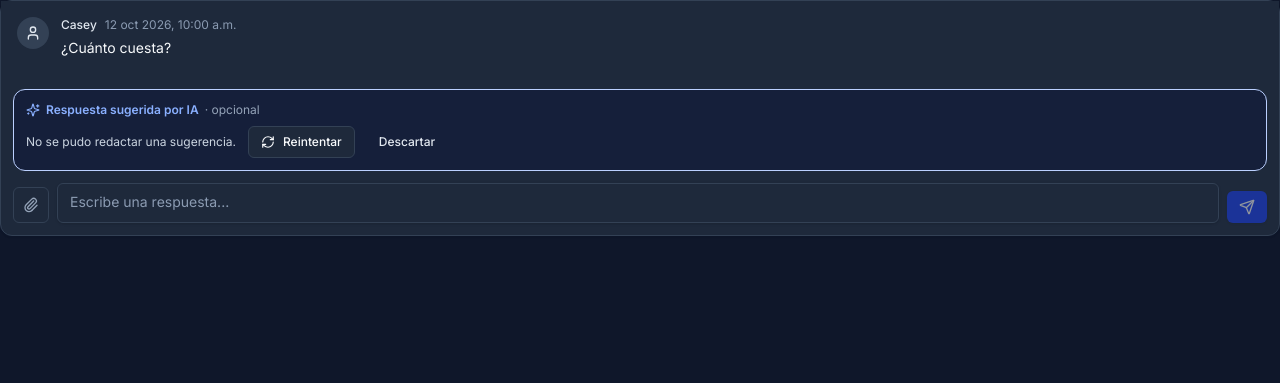
Scenario: borrador de IA en el hilo › si no se pudo redactar ofrece reintentar y el inbox sigue funcionando
The width and height of the screenshot is (1280, 383).
Expected: the text "No se pudo redactar una sugerencia." is shown, [26,134,236,150]
Expected: the text box named "Tu respuesta" is enabled, [57,183,1219,223]
Click the button "Reintentar".
click(301, 142)  # box [248,126,355,158]
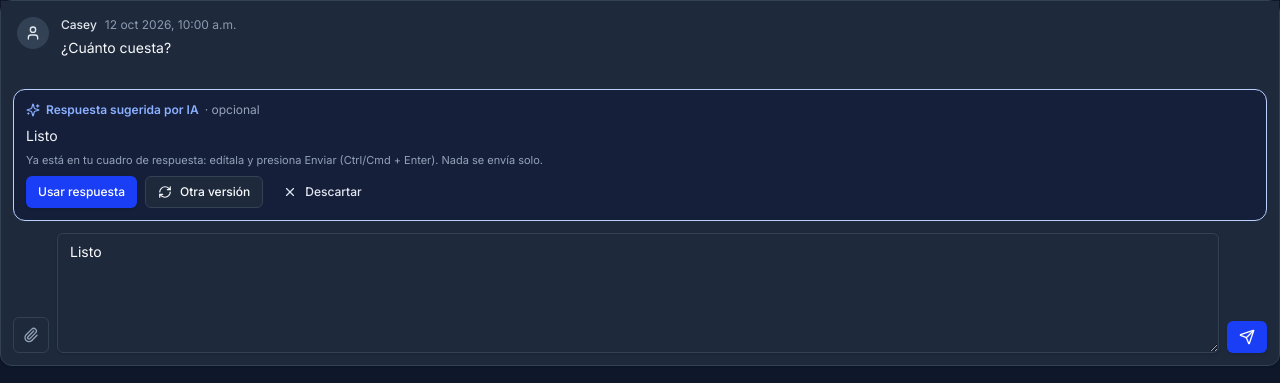
Expected: the text box named "Tu respuesta" holds "Listo", [57,233,1219,353]
